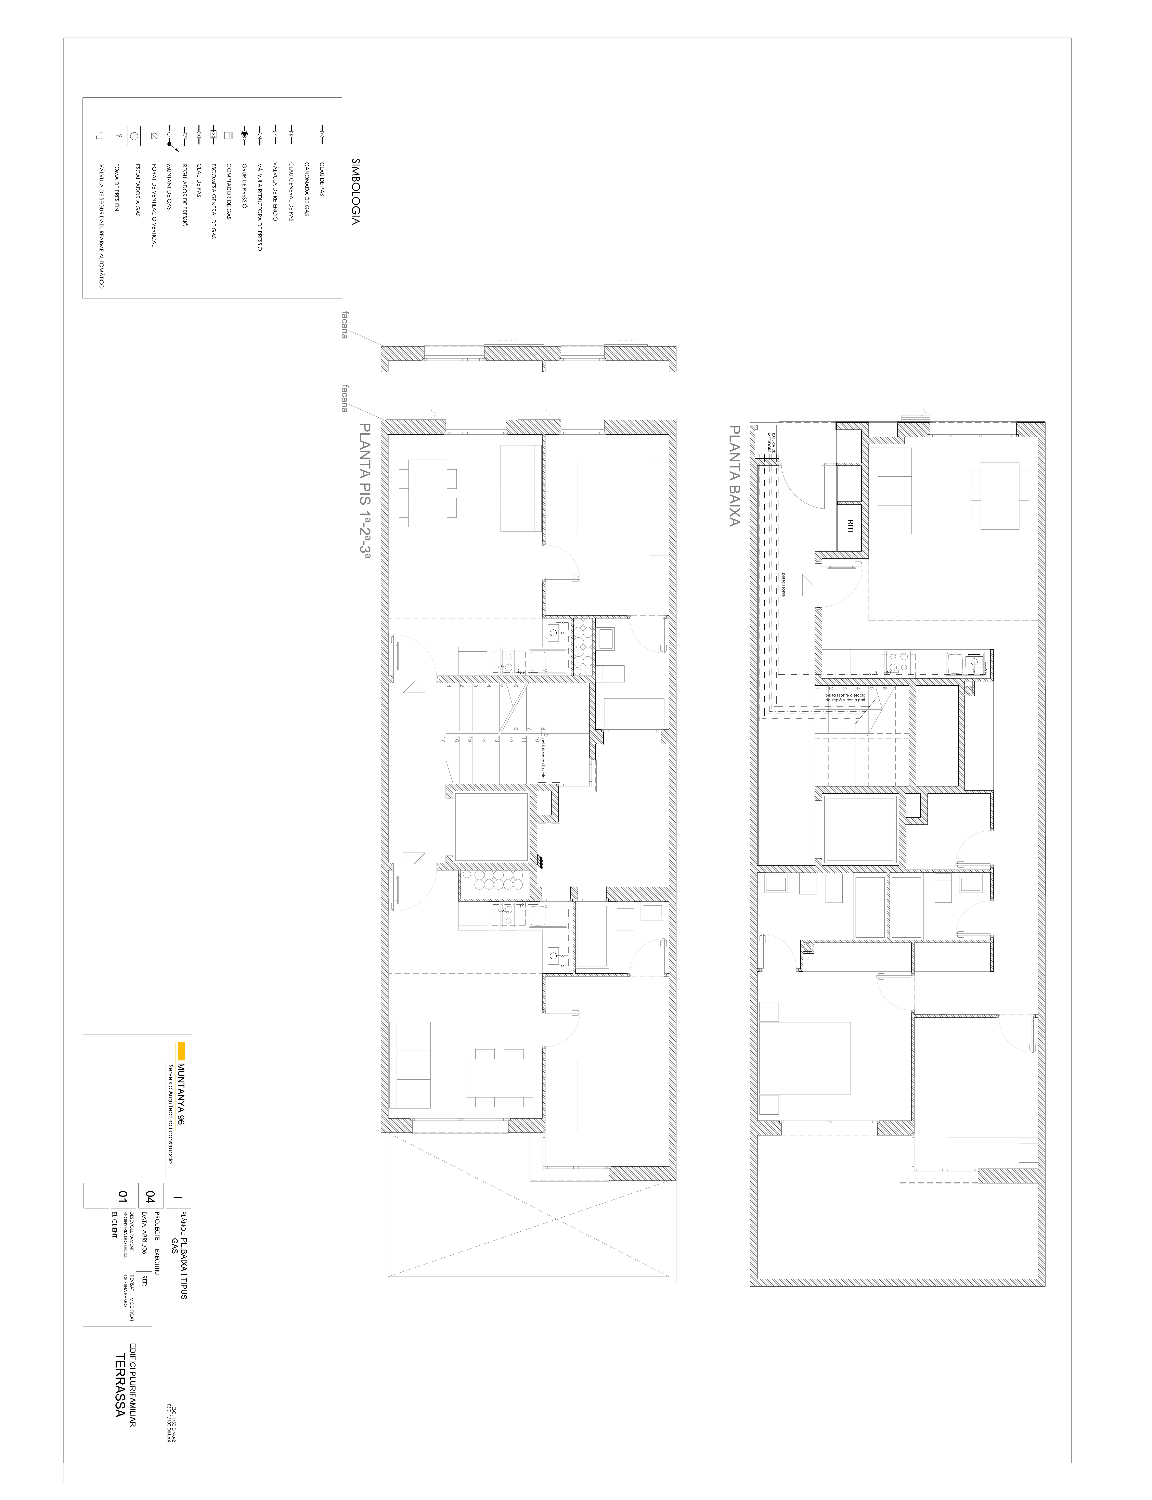door: (779, 462, 828, 510), (626, 613, 667, 654), (758, 933, 800, 973), (626, 937, 667, 977)
